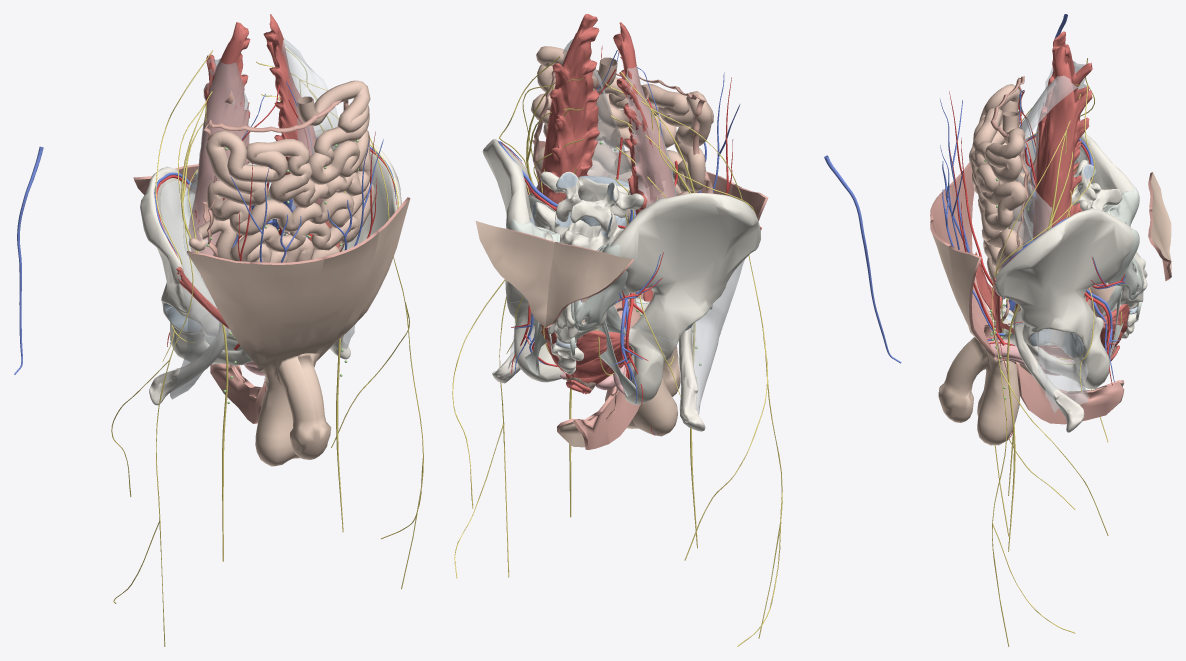
The model's file is pelvis.glb.
3 views of the same model, side by side, from view 1: azimuth 30°, elevation 25°; view 2: azimuth 150°, elevation 25°; view 3: azimuth 270°, elevation 25° (orthographic). The views are drawn at different scales.
Visible parts, largest first — view 1: jejunum, iliopsoas_fascia_r, hip_bone_r, psoas_major_r, urogenital_region_r, hypogastric_region_r, hypogastric_region_l, inguinal_region_r, psoas_major_l, iliopsoas_fascia_l, inguinal_region_l, hip_bone_l (+8 smaller); view 2: hip_bone_r, jejunum, psoas_major_l, psoas_major_r, iliopsoas_fascia_r, hip_bone_l, sacral_region_l, sacral_region_r, vertebra_l5, urogenital_region_r, sacrum, iliopsoas_fascia_l (+11 smaller); view 3: hip_bone_l, psoas_major_l, jejunum, urogenital_region_l, iliopsoas_fascia_l, hip_bone_r, inguinal_region_l, psoas_major_r, vertebra_l5, inguinal_region_r, lateral_femoral_cutaneous_nerve_l, anal_region_l (+20 smaller).
Boxes of the visible parts, <box> form: jejunum: <box>197,80,375,262</box>; iliopsoas_fascia_r: <box>160,58,249,399</box>; hip_bone_r: <box>140,166,252,365</box>; psoas_major_r: <box>149,22,250,405</box>; urogenital_region_r: <box>248,356,319,466</box>; hypogastric_region_r: <box>250,257,323,366</box>; hypogastric_region_l: <box>298,231,379,355</box>; inguinal_region_r: <box>187,251,265,371</box>; psoas_major_l: <box>263,14,350,359</box>; iliopsoas_fascia_l: <box>282,38,355,349</box>; inguinal_region_l: <box>320,197,410,356</box>; hip_bone_l: <box>314,129,401,250</box>; hip_bone_r: <box>610,193,760,405</box>; jejunum: <box>531,46,713,226</box>; psoas_major_l: <box>492,14,599,383</box>; psoas_major_r: <box>613,22,705,431</box>; iliopsoas_fascia_r: <box>625,65,744,413</box>; hip_bone_l: <box>482,139,563,382</box>; sacral_region_l: <box>475,221,555,327</box>; sacral_region_r: <box>545,242,634,327</box>; vertebra_l5: <box>540,171,644,232</box>; urogenital_region_r: <box>602,346,680,443</box>; sacrum: <box>532,202,623,343</box>; iliopsoas_fascia_l: <box>508,39,631,368</box>; hip_bone_l: <box>994,208,1134,388</box>; psoas_major_l: <box>1013,46,1092,432</box>; jejunum: <box>969,84,1030,283</box>; urogenital_region_l: <box>938,333,1067,445</box>; iliopsoas_fascia_l: <box>1004,75,1088,412</box>; hip_bone_r: <box>1000,132,1133,315</box>; inguinal_region_l: <box>948,245,995,357</box>; psoas_major_r: <box>1023,31,1092,244</box>; vertebra_l5: <box>1072,159,1122,210</box>; inguinal_region_r: <box>949,162,994,325</box>; lateral_femoral_cutaneous_nerve_l: <box>991,131,1108,646</box>; anal_region_l: <box>1065,381,1124,424</box>.
Bounding box in the file's own units: 0.4423 × 0.601 × 0.2383.
